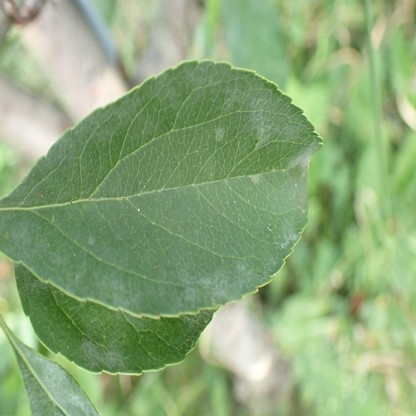powdery_mildew: (0, 62, 325, 316), (12, 263, 217, 373), (10, 343, 99, 416)
